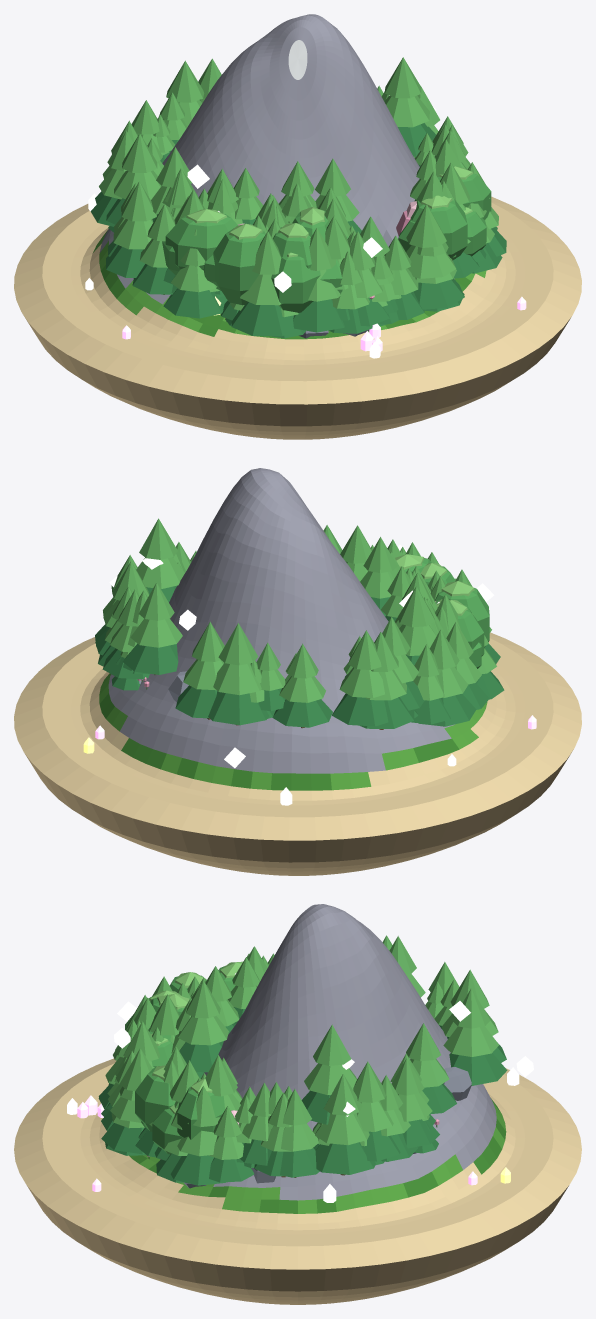
Rendered from xy_scene_island.glb.
3 renders of one model, top to bottom at view 1: azimuth 30°, elevation 25°; view 2: azimuth 150°, elevation 25°; view 3: azimuth 270°, elevation 25°, orthographic.
Parts seen in each view (by area): view 1: Terrain, TreesPine, Hull, TreesBroadleaf, Emissive_Gems, Emissive_Wishes; view 2: Terrain, TreesPine, Hull, TreesBroadleaf, Emissive_Wishes, Emissive_Gems; view 3: Terrain, TreesPine, Hull, TreesBroadleaf, Emissive_Gems, Emissive_Wishes, Rocks.
Boxes of the visible parts, box(x1,y1,x2,y2) form: Terrain: box(14, 14, 581, 404); TreesPine: box(90, 57, 506, 338); Hull: box(23, 315, 570, 439); TreesBroadleaf: box(162, 166, 491, 312); Emissive_Gems: box(85, 193, 526, 358); Emissive_Wishes: box(187, 95, 436, 292); Terrain: box(14, 468, 581, 840); TreesPine: box(95, 518, 504, 729); Hull: box(24, 752, 571, 875); TreesBroadleaf: box(395, 554, 489, 668); Emissive_Wishes: box(109, 545, 494, 768); Emissive_Gems: box(83, 715, 536, 805); Terrain: box(14, 904, 581, 1269); TreesPine: box(98, 935, 507, 1185); Hull: box(27, 1186, 568, 1304); TreesBroadleaf: box(125, 961, 242, 1154); Emissive_Gems: box(67, 1067, 519, 1202); Emissive_Wishes: box(114, 973, 533, 1116); Rocks: box(184, 1067, 471, 1188).
Bounding box in the file's own units: 20 × 15.25 × 20.
